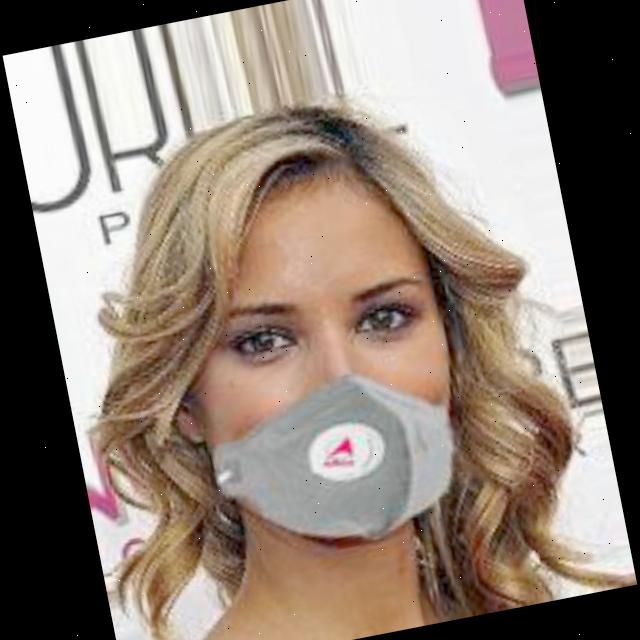suspicion: (163, 106, 539, 600)
